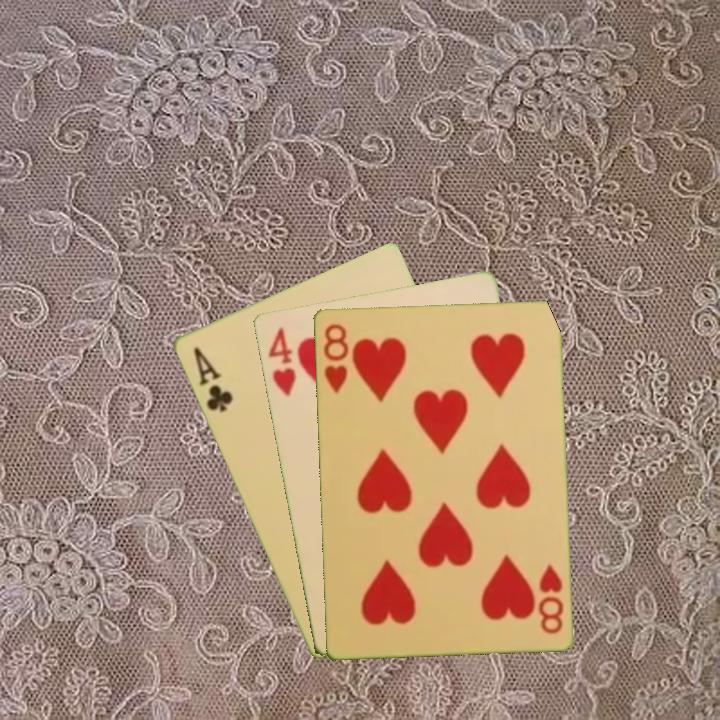4h: (264, 323, 299, 400)
8h: (534, 560, 566, 637), (319, 320, 351, 396)
Ac: (189, 343, 235, 415)
